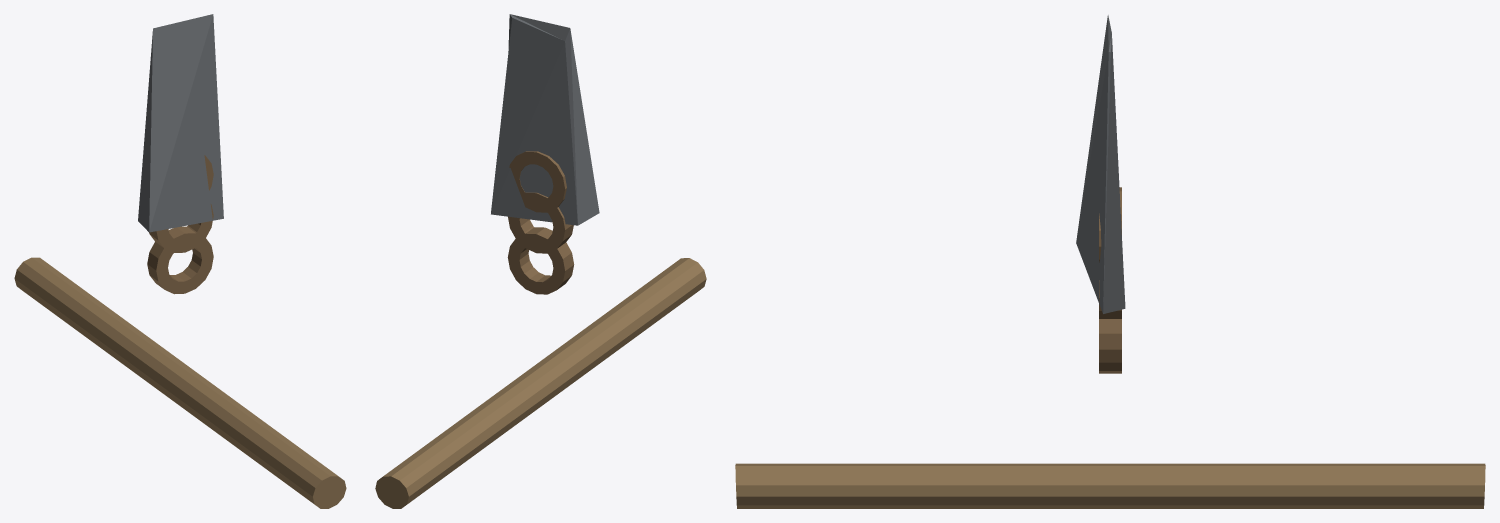
File: stone_axe.glb
The picture shows the model from 3 angles, left to right: view 1: azimuth 30°, elevation 25°; view 2: azimuth 150°, elevation 25°; view 3: azimuth 270°, elevation 25°; orthographic projection. The views are drawn at different scales.
Parts seen in each view (by area): view 1: world; view 2: world; view 3: world.
Part boxes in pixels (x1=…): world: x1=14, y1=14, x2=346, y2=508; world: x1=375, y1=14, x2=706, y2=508; world: x1=735, y1=15, x2=1485, y2=508.
Size of the model in its own units: 0.0684 by 0.2771 by 0.3962.
